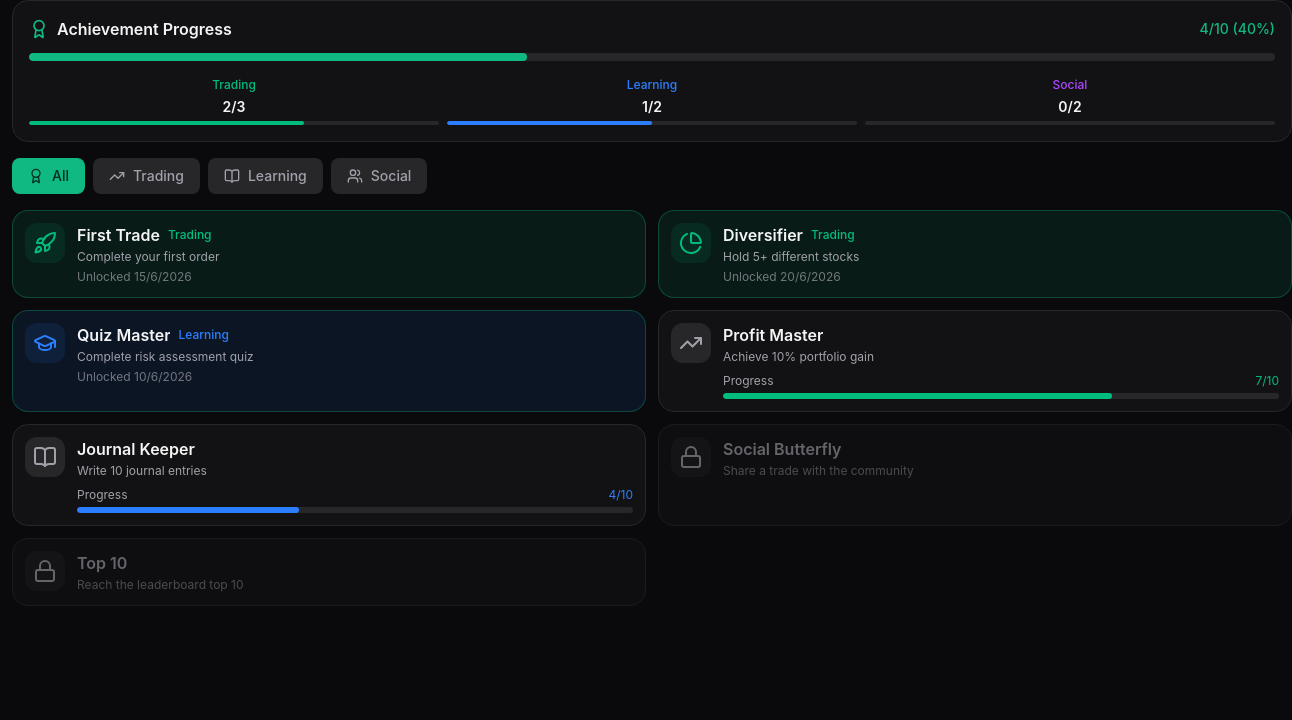
Test: AchievementsList › filters achievements by Learning category
Click the button "Learning" at (265, 176), box [208,158,323,194]
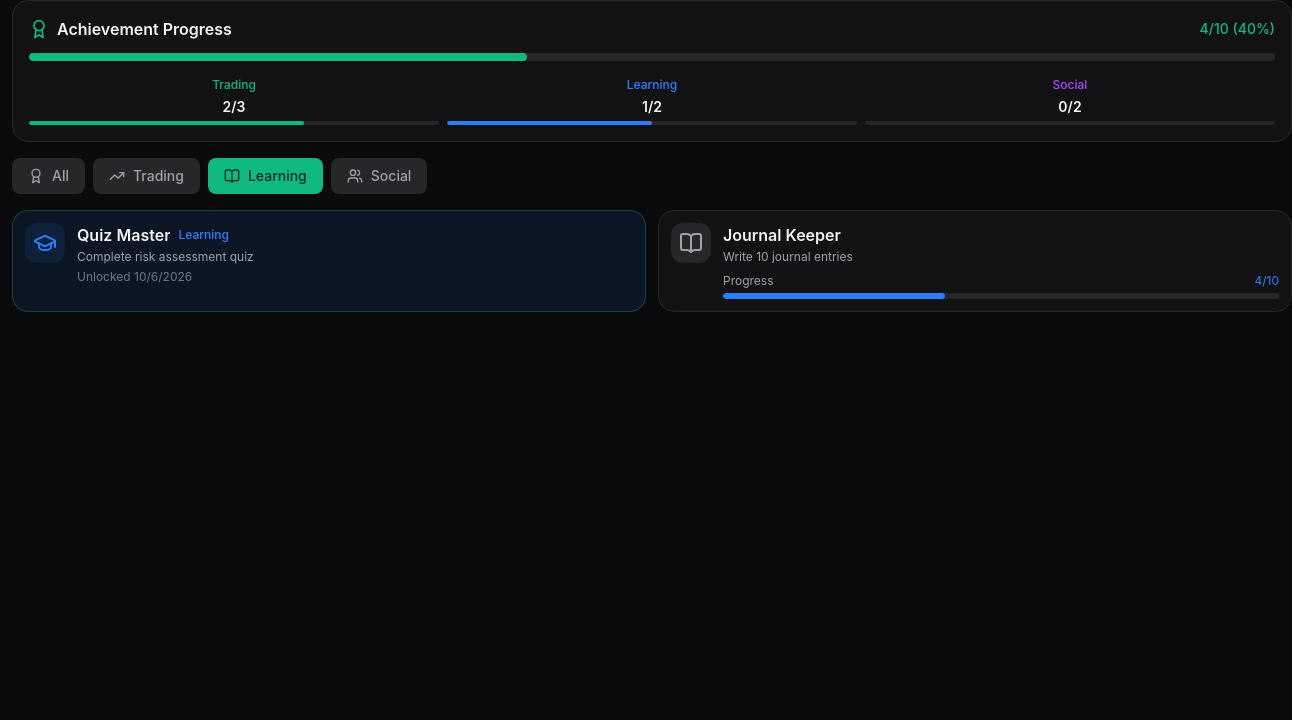
Expected: the heading "Journal Keeper" is shown, [723,223,841,247]
Expected: the heading "First Trade" is gone
Expected: the heading "Social Butterfly" is gone
